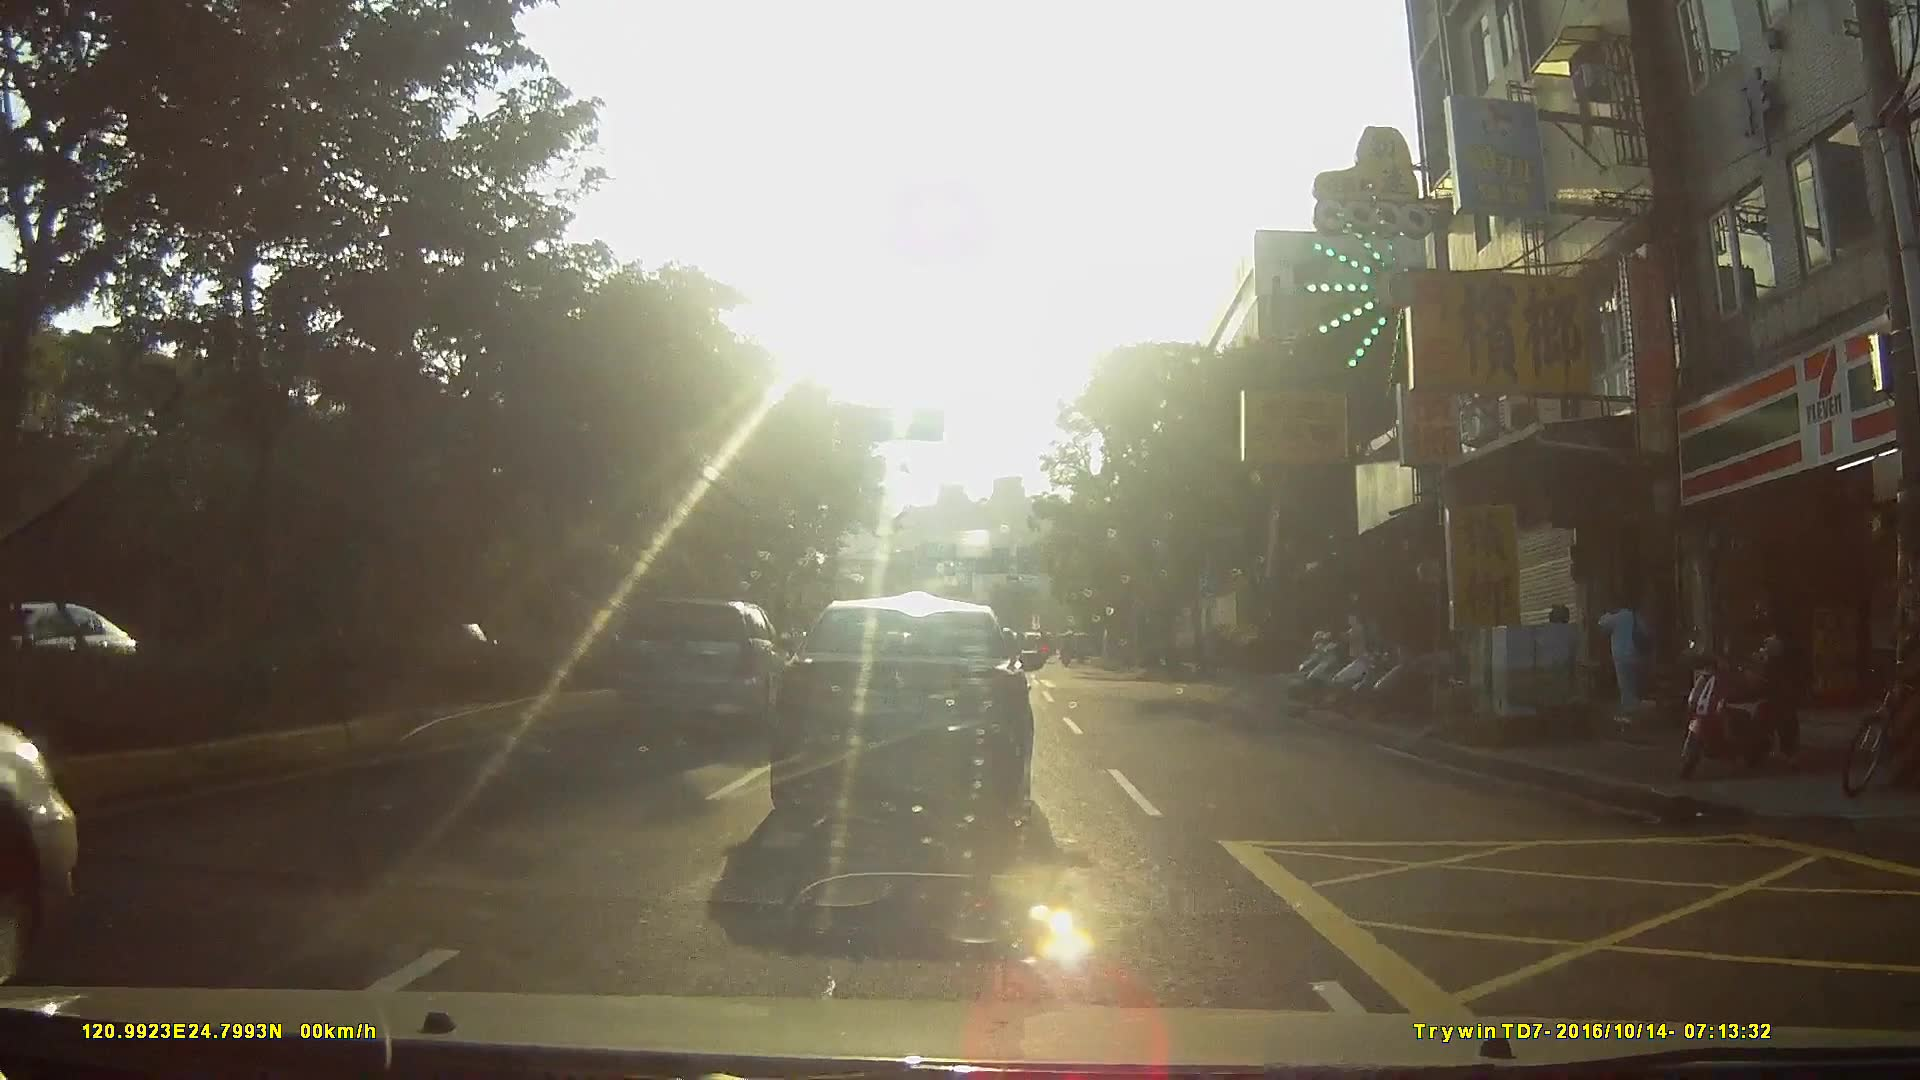pedestrian: (1753, 615, 1809, 776), (1597, 590, 1663, 727)
vehicle: (775, 586, 1063, 837), (0, 668, 152, 984), (620, 597, 797, 730), (2, 598, 144, 700)
